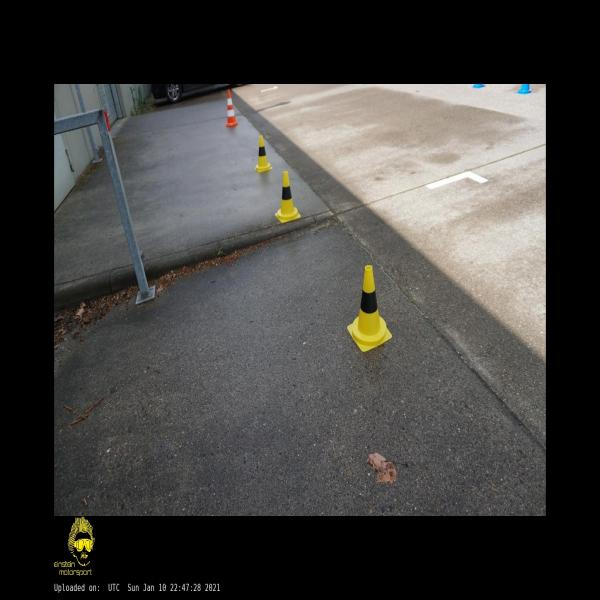large_orange_cone: (226, 89, 238, 127)
yellow_cone: (347, 265, 392, 352), (275, 171, 301, 223), (255, 135, 272, 172)
